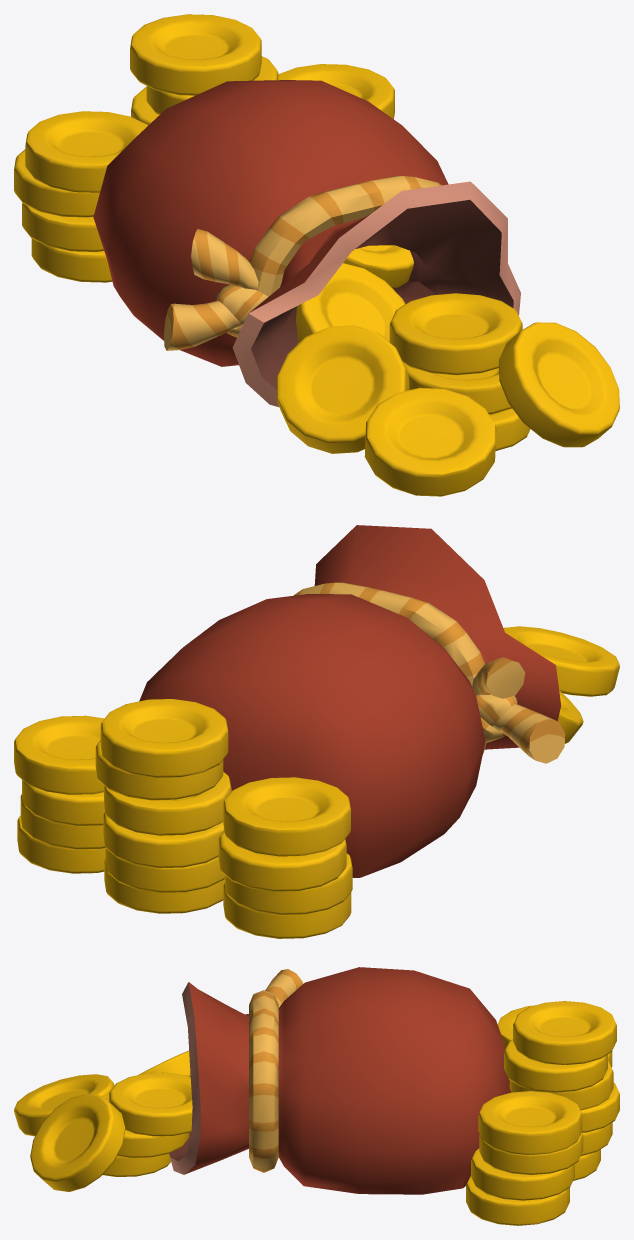
3 views of the same model, one above another, from view 1: azimuth 30°, elevation 25°; view 2: azimuth 150°, elevation 25°; view 3: azimuth 270°, elevation 25° (orthographic). The views are drawn at different scales.
Parts seen in each view (by area): view 1: model_0.119; view 2: model_0.119; view 3: model_0.119.
Part boxes in pixels (bbox=[...]): model_0.119: bbox=[14, 14, 619, 496]; model_0.119: bbox=[14, 525, 619, 938]; model_0.119: bbox=[14, 967, 619, 1225].
Size of the model in its own units: 4.69 by 2.48 by 8.
